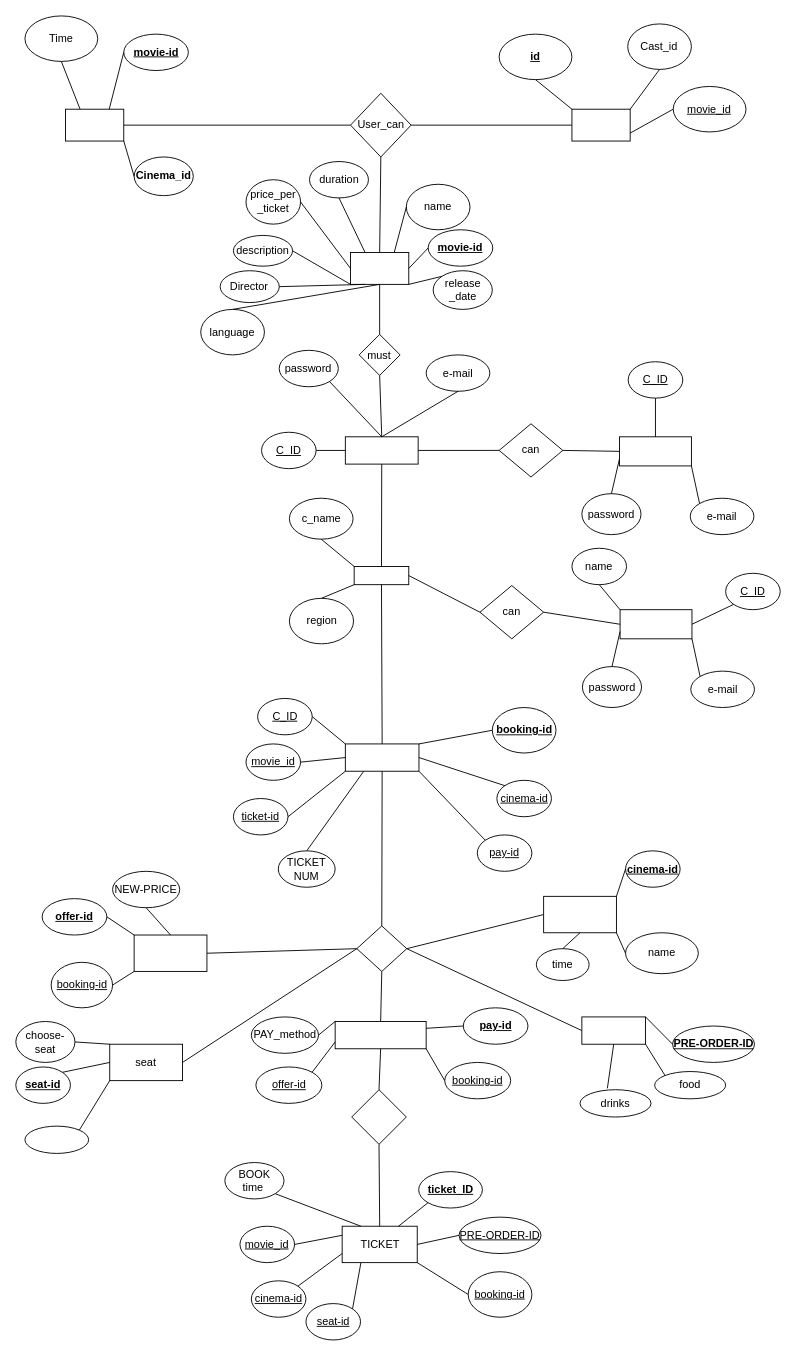
This 796x1356 diagram has some shape labels left out. Here are the shapes that lost their labels. From the top down, the centre of each, then its label:
(x=94, y=124): browse-cinema
(x=600, y=124): browse-cast
(x=379, y=268): browse-movie
(x=381, y=450): login
(x=655, y=451): register
(x=381, y=575): customer
(x=655, y=624): feedback
(x=381, y=757): book
(x=579, y=914): CHOOSE CINEMA
(x=170, y=952): discont
(x=381, y=948): do
(x=380, y=1035): payment
(x=613, y=1030): pre-order-food
(x=378, y=1116): recive
(x=56, y=1139): seat-type
